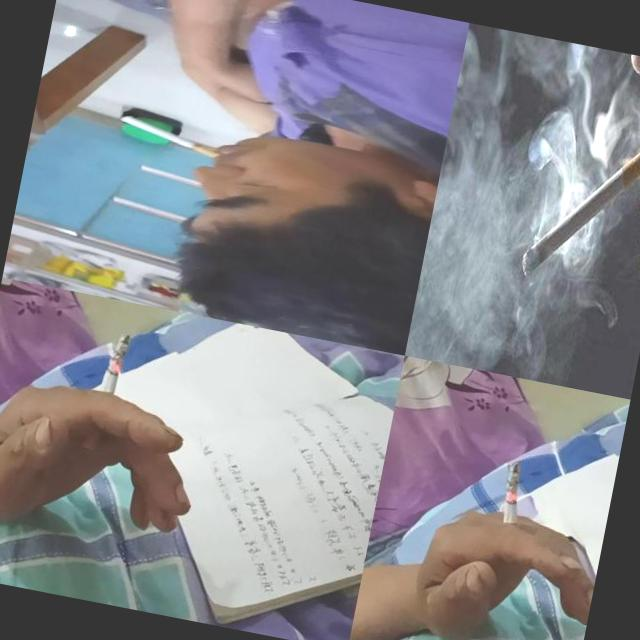smoke: (516, 119, 640, 300), (81, 330, 132, 454), (116, 114, 224, 160), (495, 462, 531, 540)
